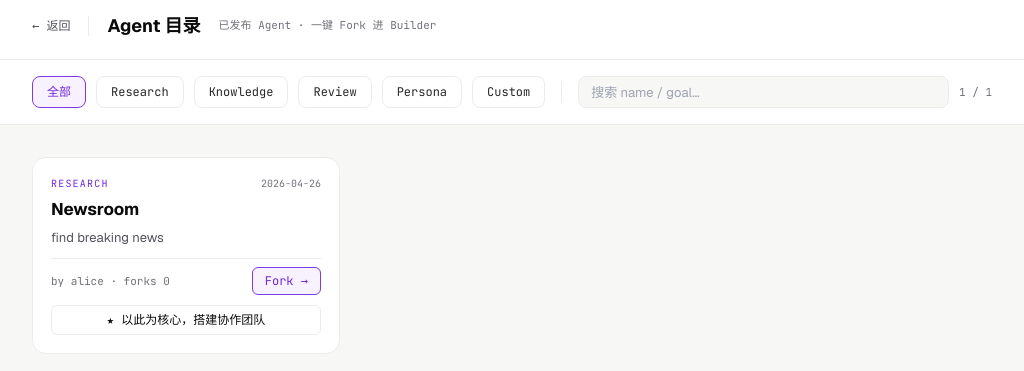
Test case: CatalogPage › shows "no match" when keyword filters out all apps
Expected: the text "Newsroom" is shown, [51,198,139,220]
Step 1. Type "absolutely-no-match" into the field with test id "catalog-search-input" → x=764, y=92, box [578,76,949,108]
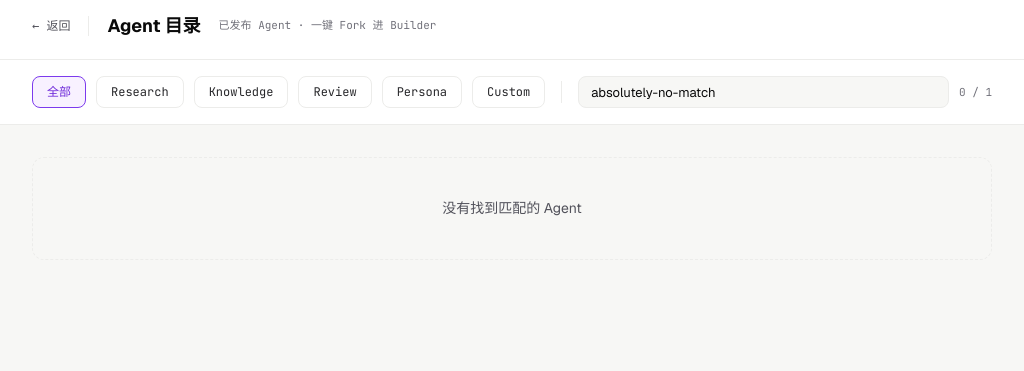
Now the text "没有找到匹配的 Agent" is shown, box [32,157,992,260]
